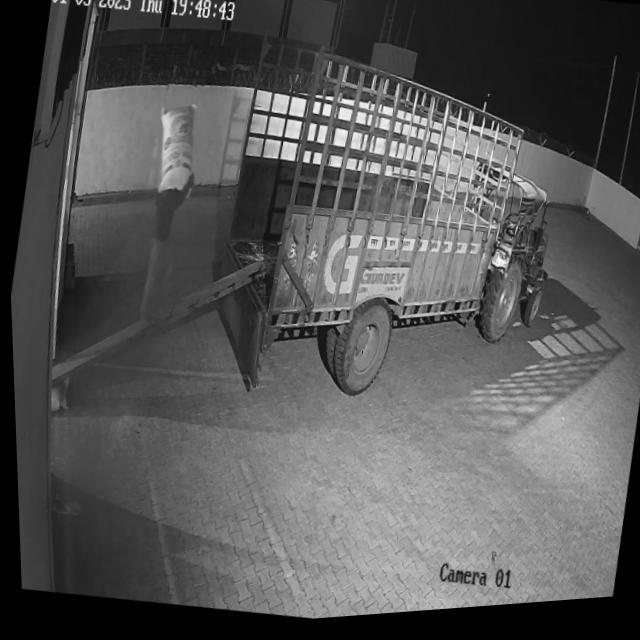sack: (144, 100, 203, 199)
